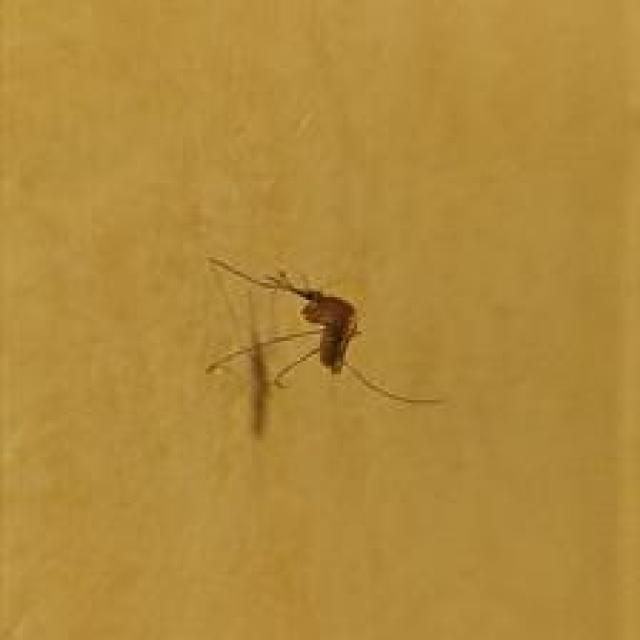Culex: (203, 254, 443, 437)
